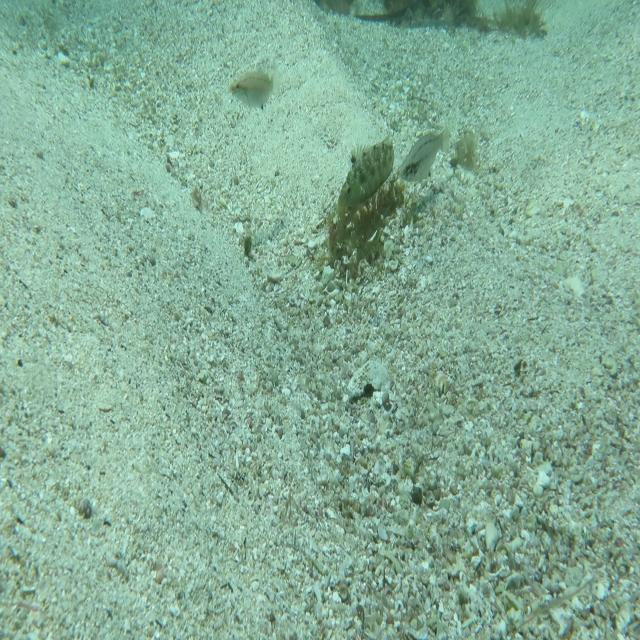BEND_OPP: (336, 125, 396, 212)
female: (396, 120, 454, 185)
nest: (315, 172, 411, 282)
